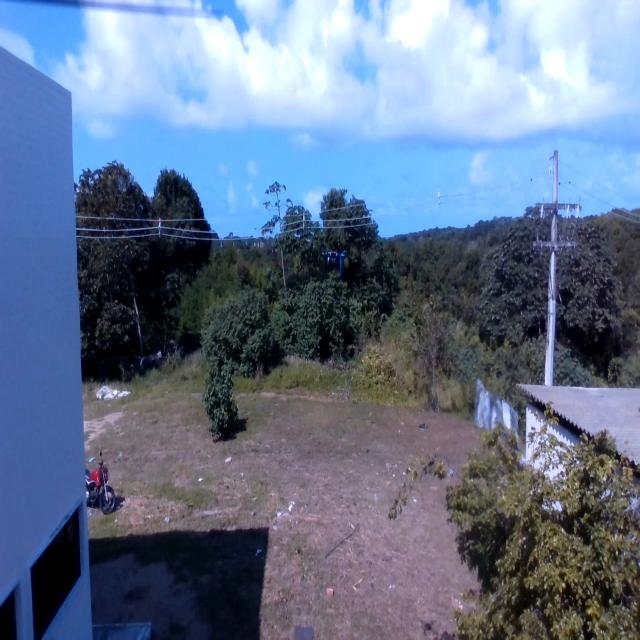-uav-: (318, 235, 350, 289)
